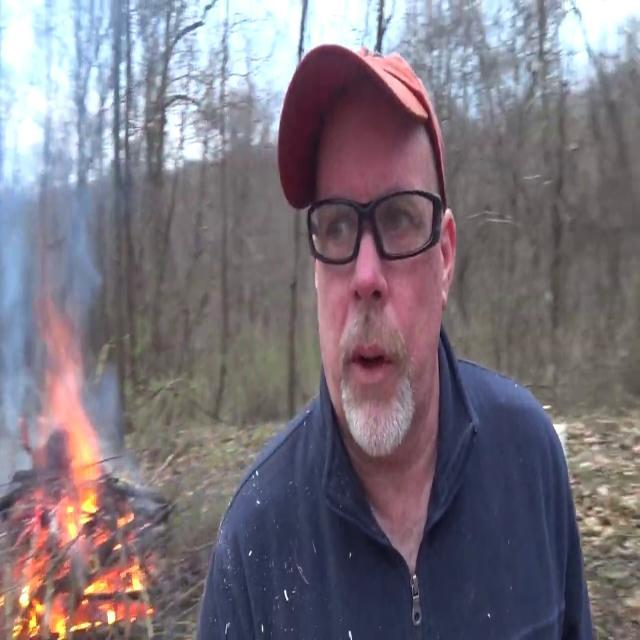Fire: (2, 362, 151, 634)
Smoke: (0, 17, 126, 564)
